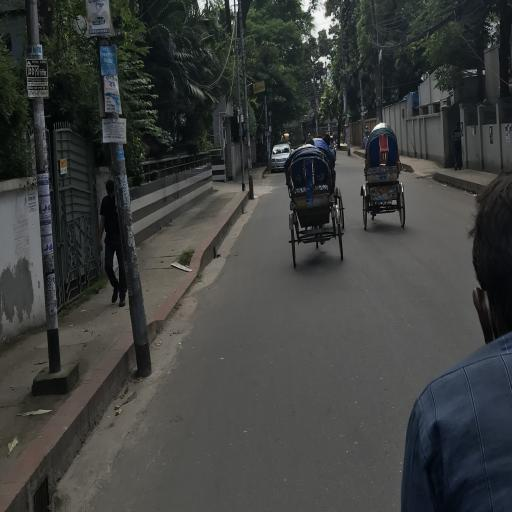car: (271, 145, 292, 172)
motorbike: (331, 146, 338, 158)
rickshaw: (286, 147, 345, 270), (362, 123, 408, 232), (316, 140, 348, 233), (280, 135, 292, 145), (327, 131, 335, 139)
